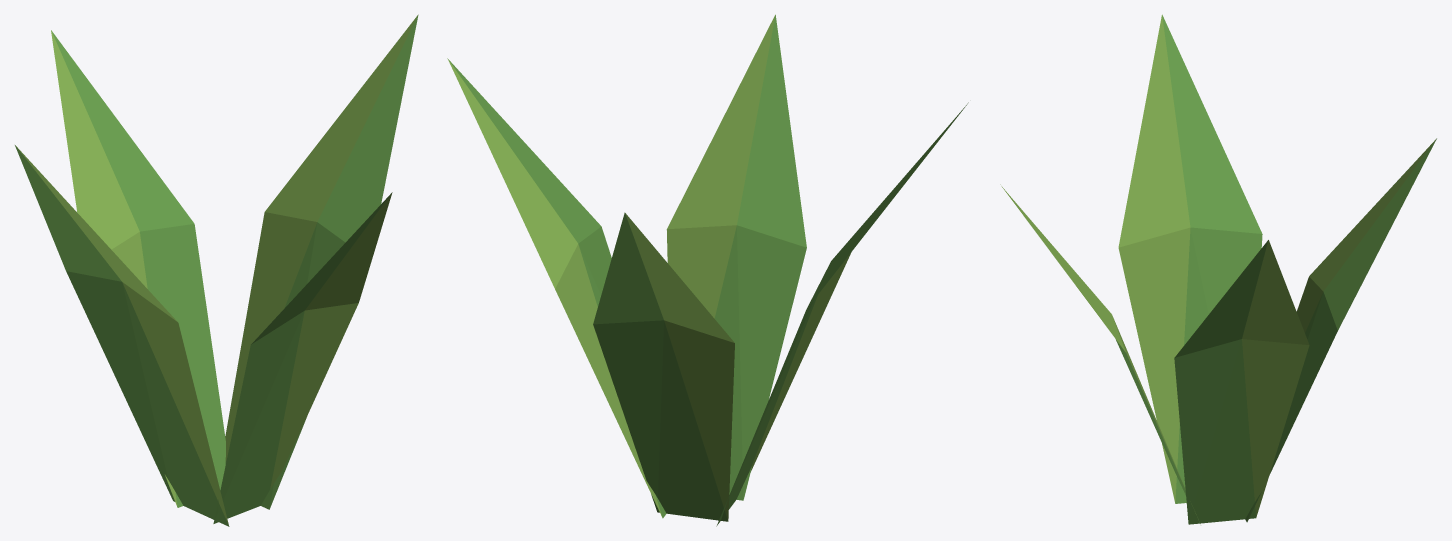
Rendered from path_edge_grass_tuft_01.glb.
3 views of the same model, side by side, from view 1: azimuth 30°, elevation 25°; view 2: azimuth 150°, elevation 25°; view 3: azimuth 270°, elevation 25° (orthographic). The views are drawn at different scales.
Parts seen in each view (by area): view 1: path_edge_grass_tuft_01; view 2: path_edge_grass_tuft_01; view 3: path_edge_grass_tuft_01.
Part boxes in pixels (x1,y1,x2,y2): path_edge_grass_tuft_01: (15, 14, 418, 526); path_edge_grass_tuft_01: (447, 14, 968, 526); path_edge_grass_tuft_01: (1000, 14, 1436, 524).
Bounding box in the file's own units: 0.1435 × 0.1308 × 0.132.
